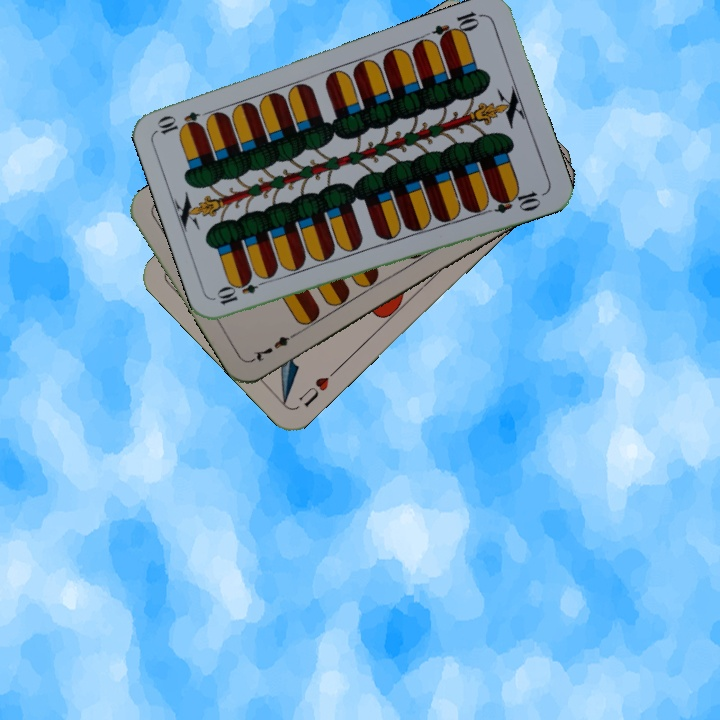E10: (429, 7, 486, 46), (213, 274, 271, 308)
E7: (248, 327, 302, 364)
HU: (294, 365, 340, 410)
